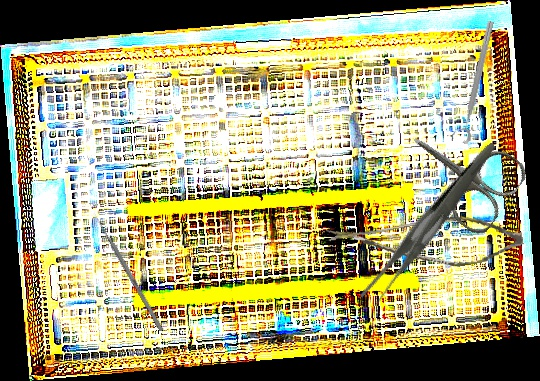Dressing Forceps: (329, 142, 533, 310)
Fixation Ring: (449, 18, 498, 145)
Iris Scissors: (389, 103, 532, 240)
Micro Scissor: (326, 196, 526, 289)
Pusher: (91, 211, 165, 332)
